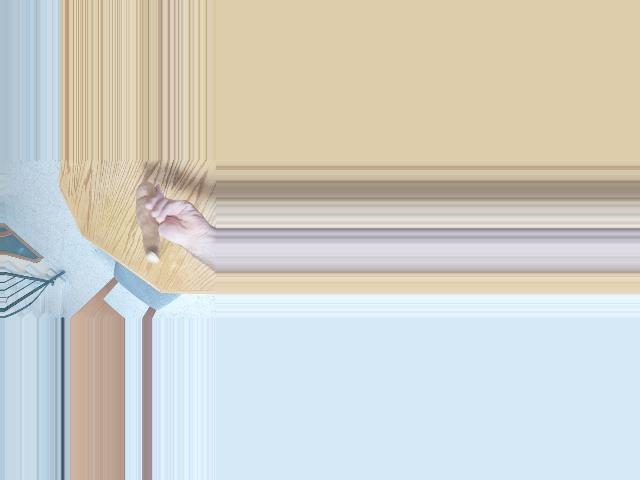sweet_potato: (132, 181, 167, 260)
